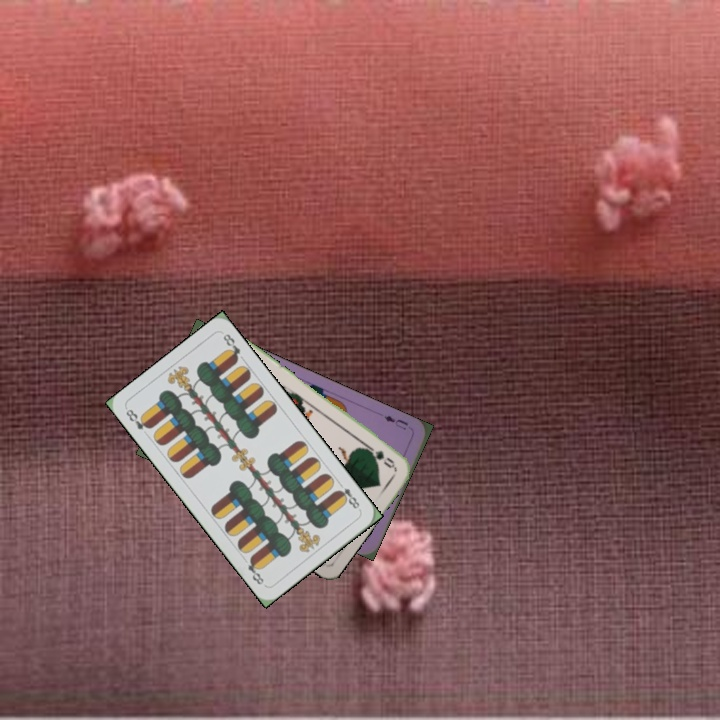E8: (333, 478, 363, 513), (122, 405, 154, 432)
EU: (380, 411, 411, 433)
GO: (361, 441, 398, 471)
